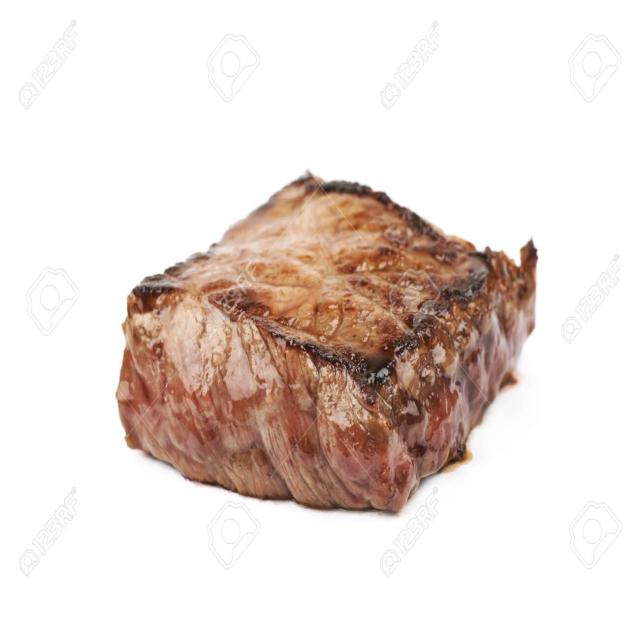carne de cerdo: (98, 189, 544, 525)
